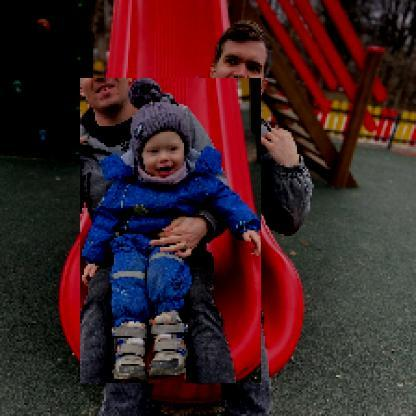child: (81, 79, 263, 385)
